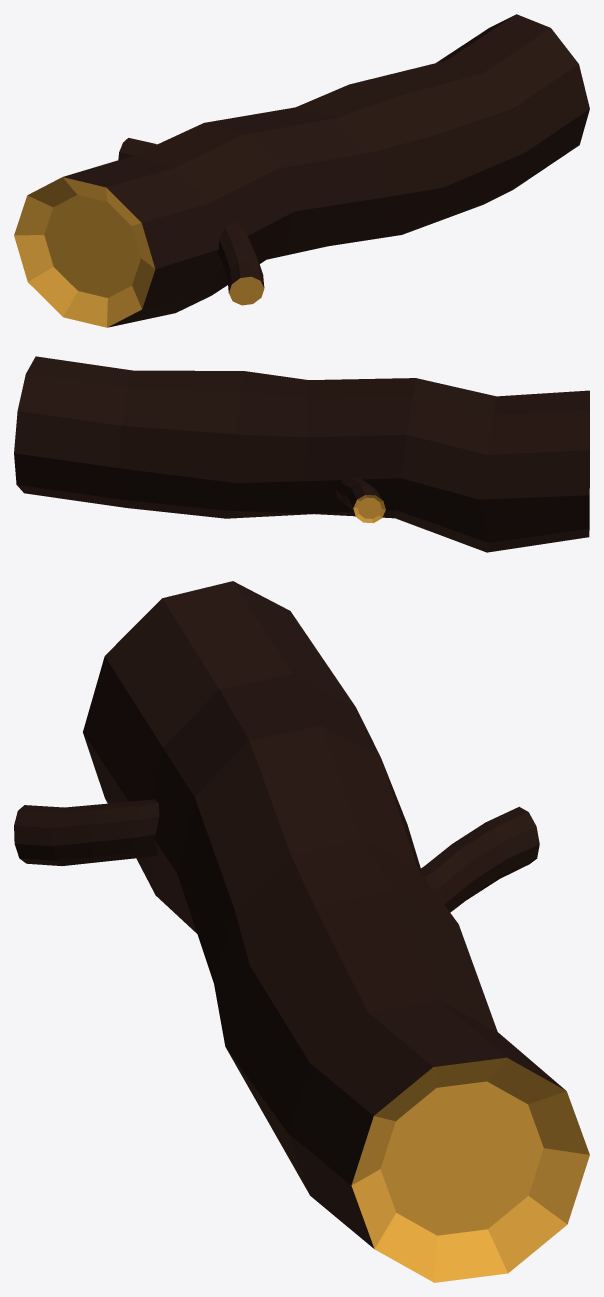
File: CIOCCO_4.fbx
3 views of the same model, one above another, from view 1: azimuth 30°, elevation 25°; view 2: azimuth 150°, elevation 25°; view 3: azimuth 270°, elevation 25° (orthographic). The views are drawn at different scales.
Parts seen in each view (by area): view 1: group312684487; view 2: group312684487; view 3: group312684487.
Boxes of the visible parts, x1,y1,x2,y2 form: group312684487: [14, 14, 589, 327]; group312684487: [14, 356, 589, 552]; group312684487: [14, 581, 589, 1282].
Bounding box in the file's own units: 0.6835 × 0.19 × 0.356.
